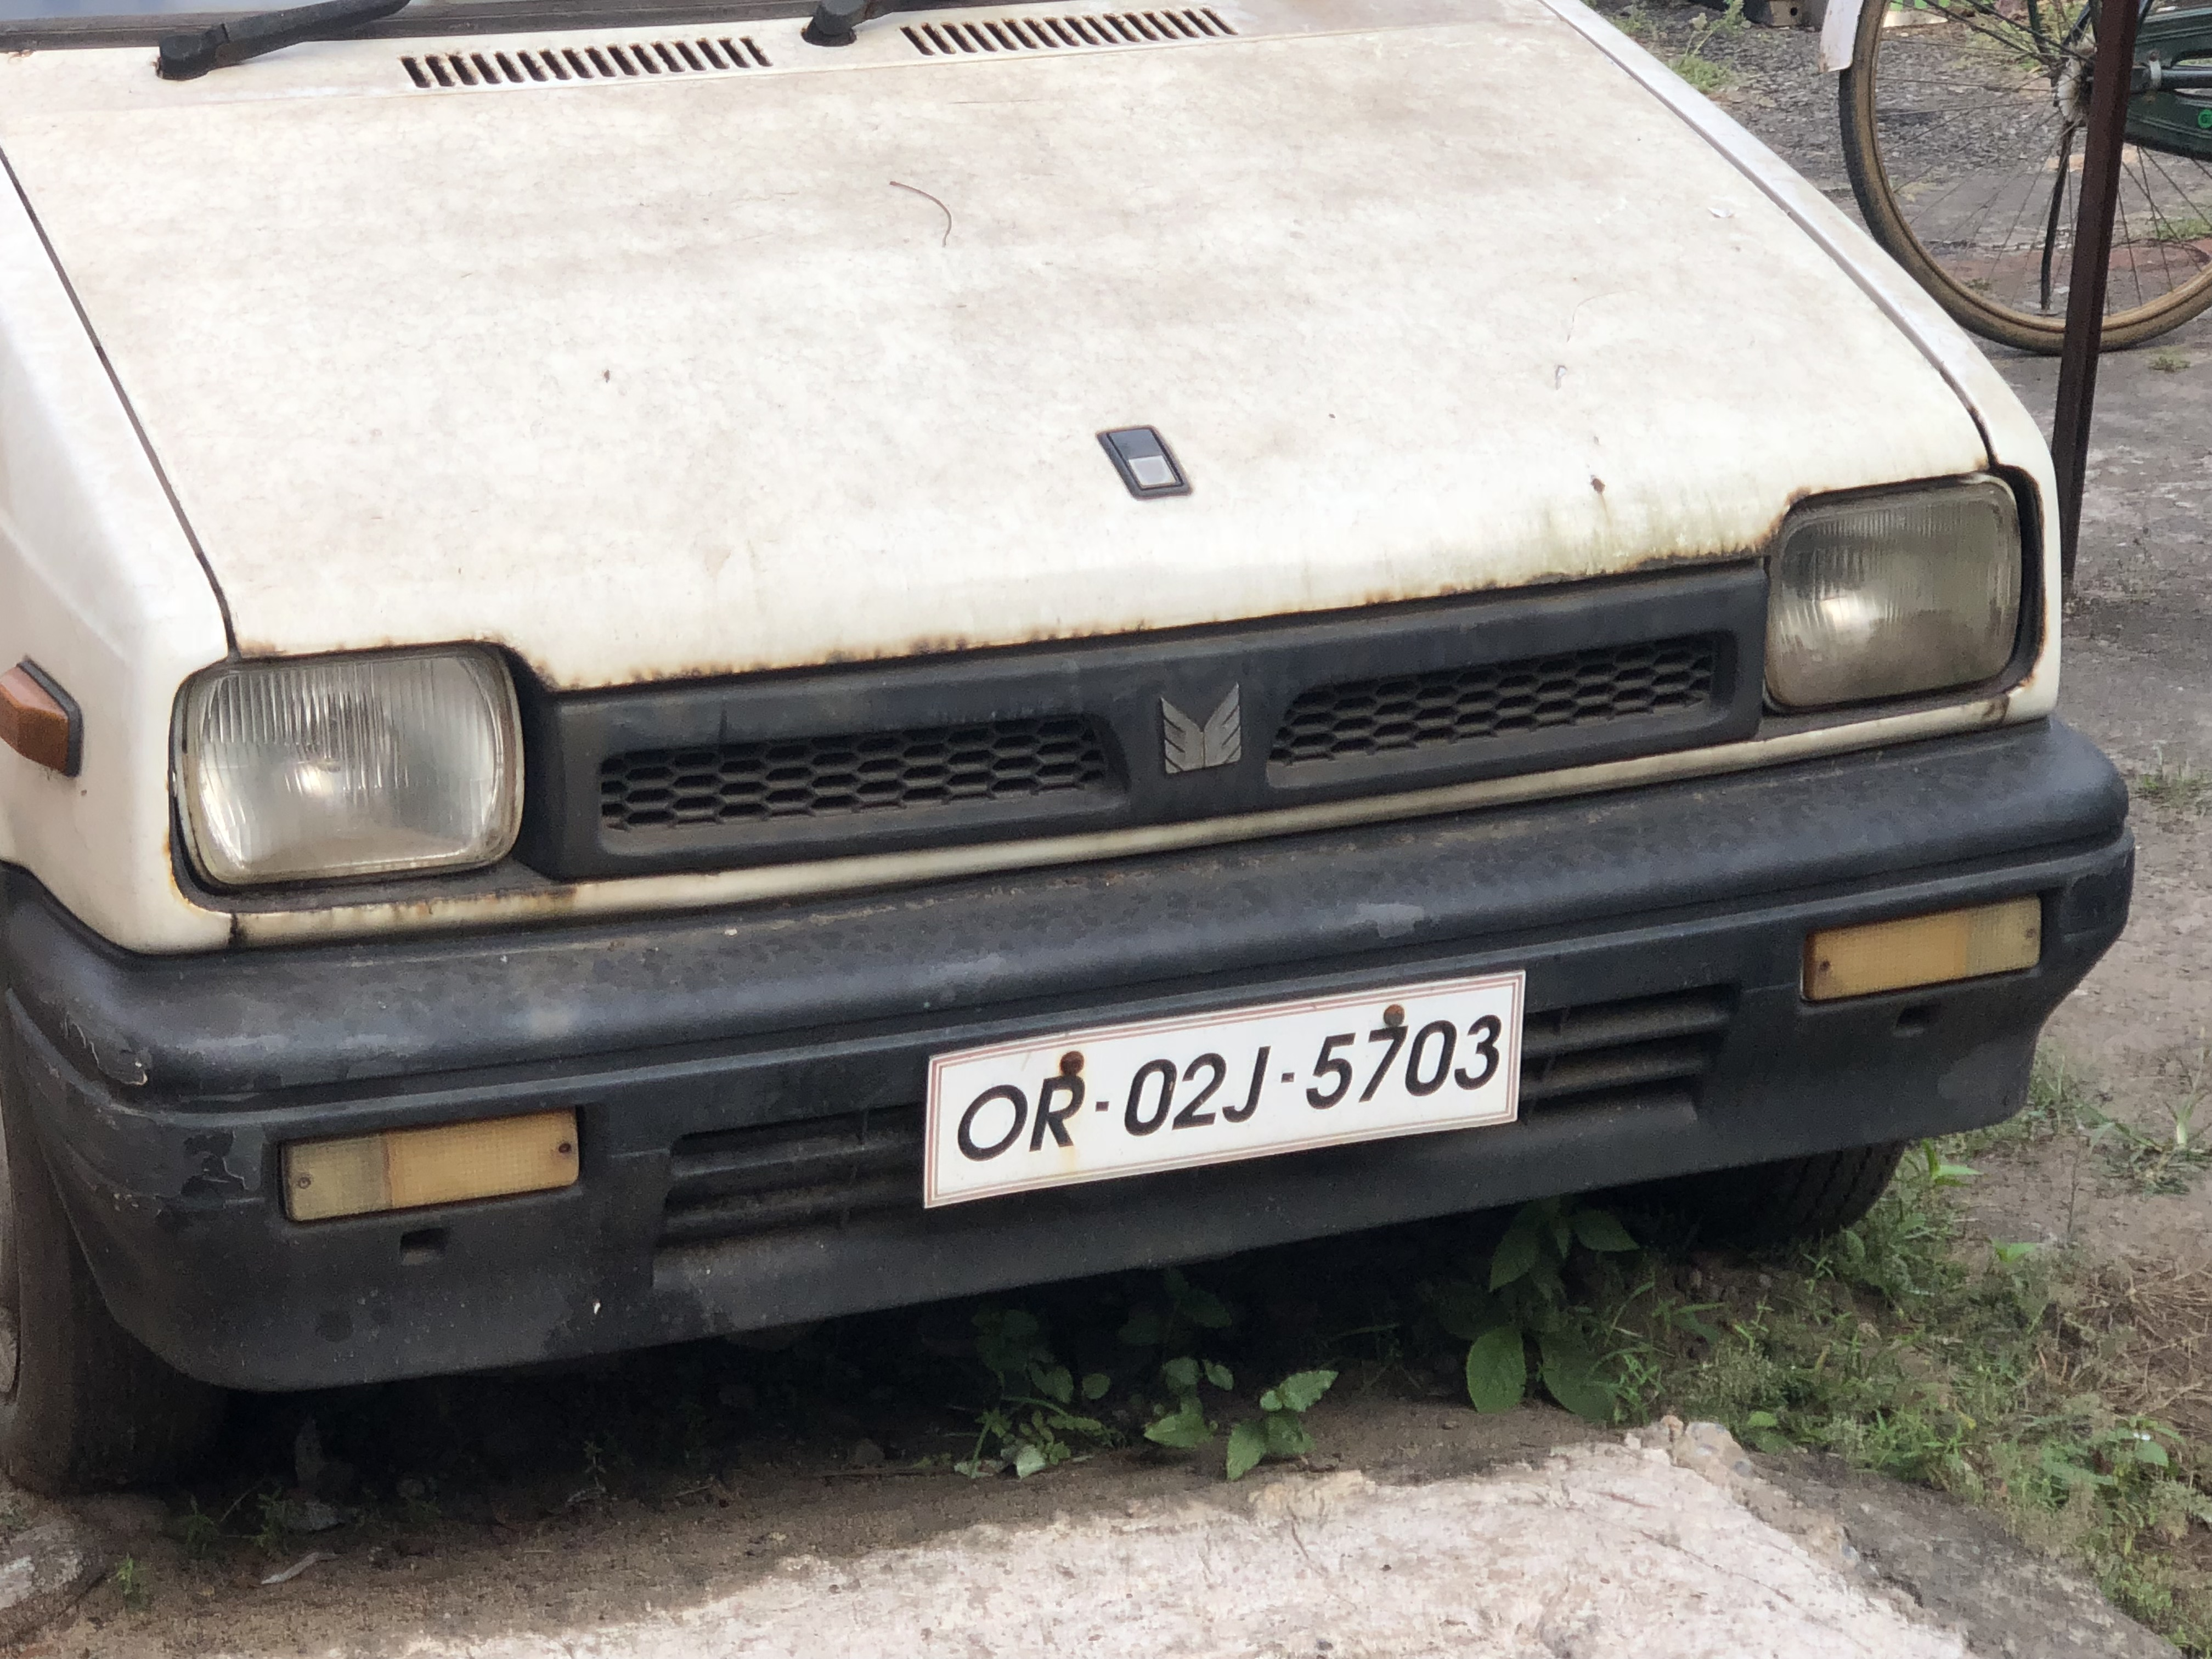licenseplate: (894, 967, 1537, 1199)
